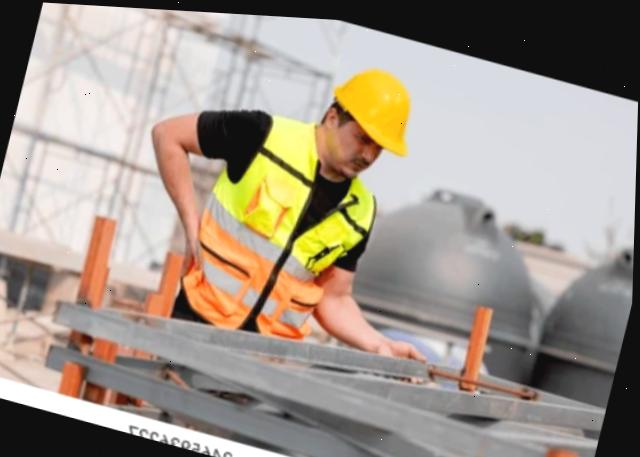helmet: (324, 54, 423, 143)
vest: (202, 106, 370, 344)
